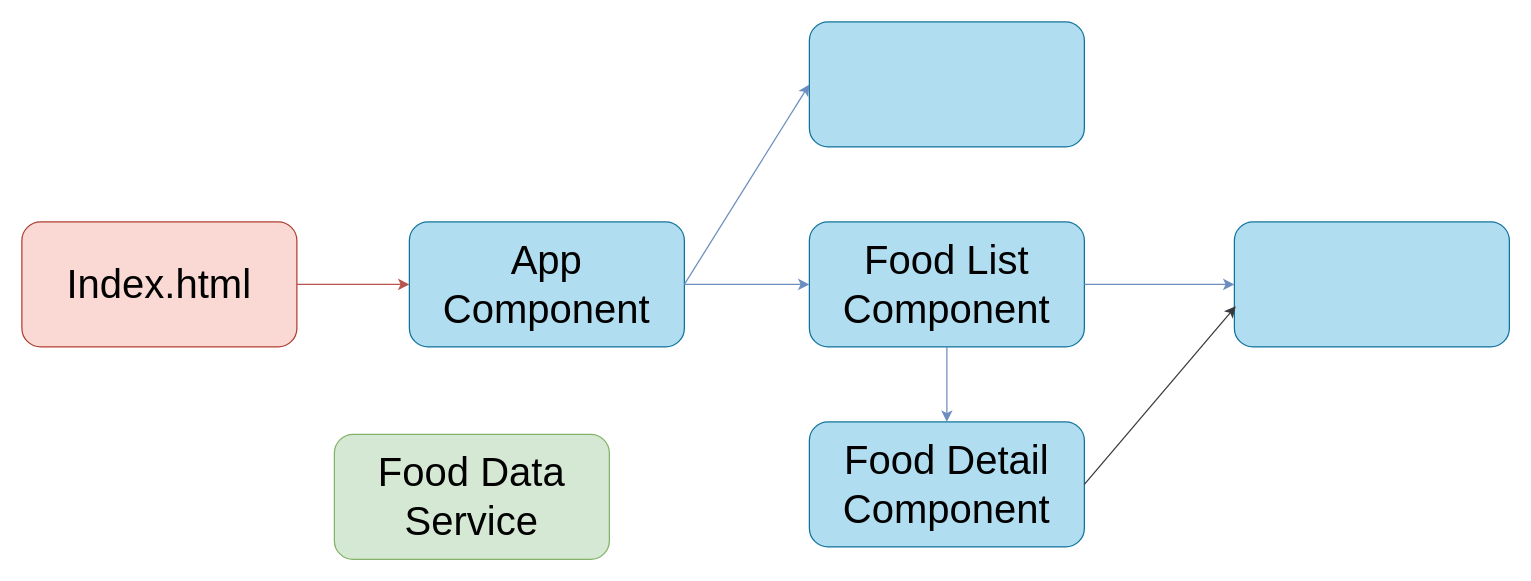
Image size: 1531x581. Some labels were removed from this diagram. The shapes that lost their labels are listed below. From the top down, each one's centre as x and y in pixels, then its label:
the point at 946,84: Welcome Component
the point at 1371,284: Star Component
